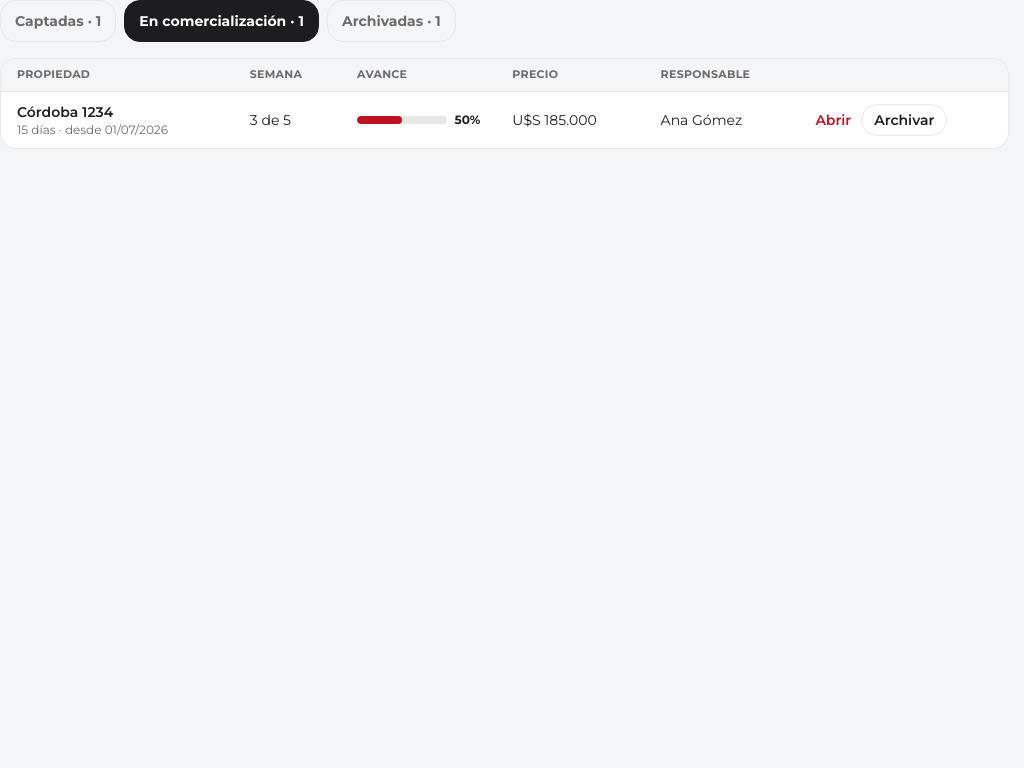
Test: ReporteGeneral › el botón Archivar abre el modal con la propiedad elegida
This screenshot has width=1024, height=768.
Click the button "Archivar": click(904, 120) [861, 104, 947, 136]
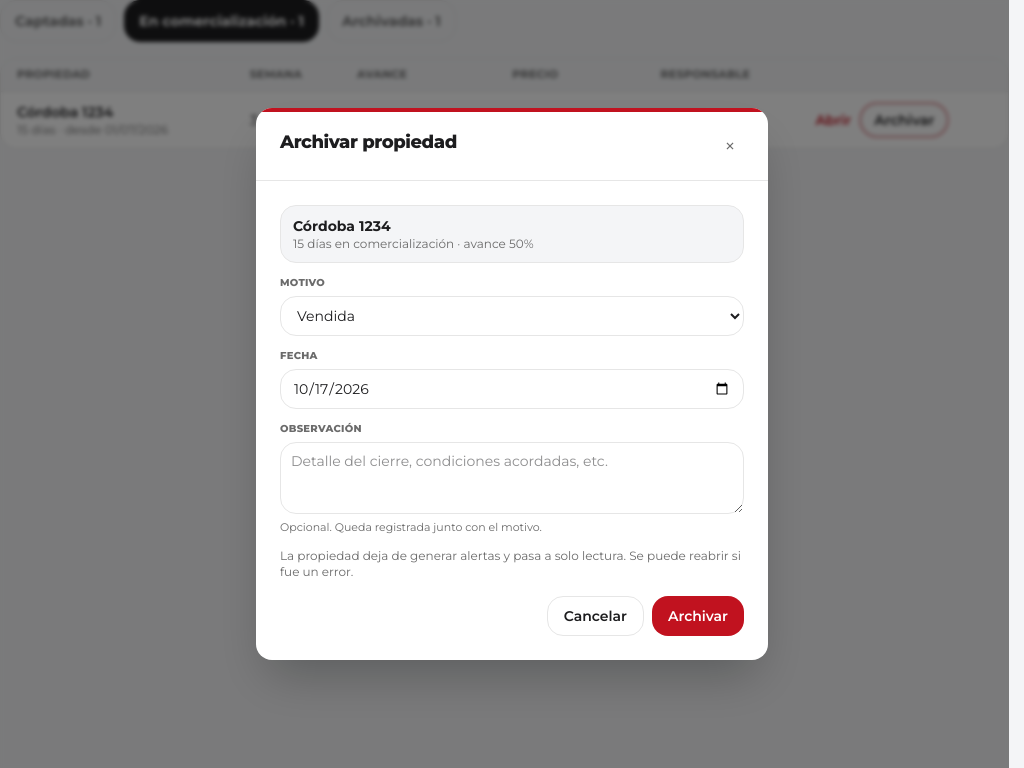
Now the heading "Archivar propiedad" is shown, box [280, 128, 457, 156]
Now the text "deja de generar alertas" is shown, box [280, 548, 741, 579]
